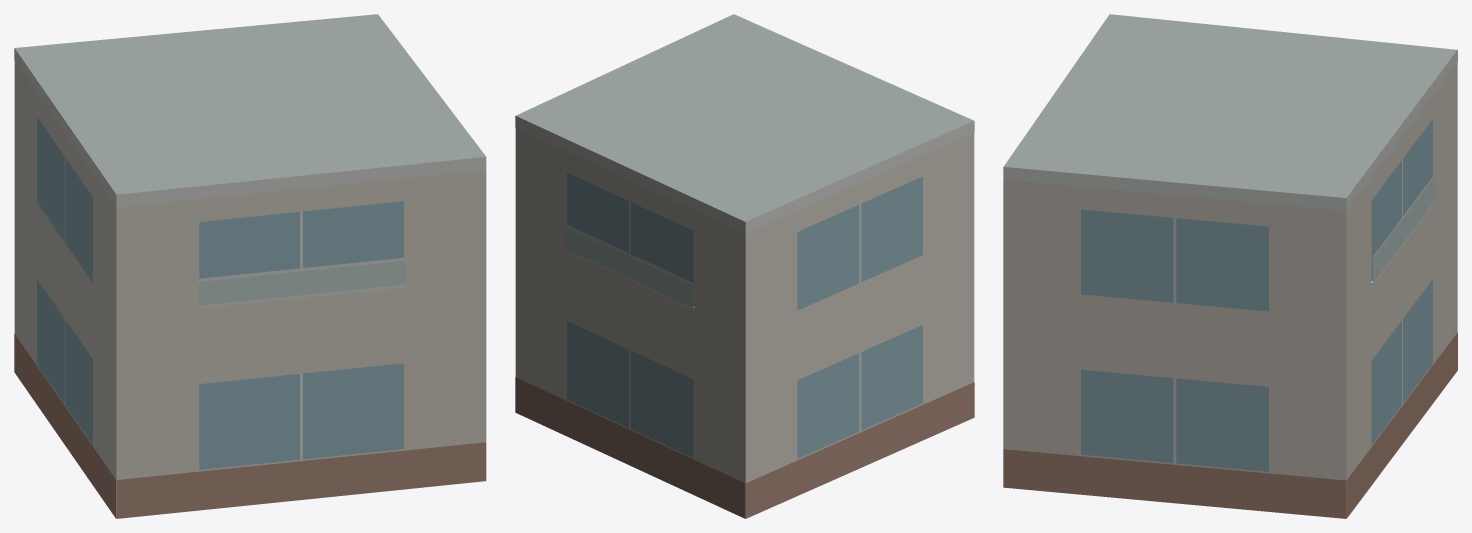
File: survey-upis-32870603.glb
3 views of the same model, side by side, from view 1: azimuth 30°, elevation 25°; view 2: azimuth 150°, elevation 25°; view 3: azimuth 270°, elevation 25° (orthographic). The views are drawn at different scales.
Parts seen in each view (by area): view 1: survey-upis-32870603.tmp; view 2: survey-upis-32870603.tmp; view 3: survey-upis-32870603.tmp.
Boxes of the visible parts, x1,y1,x2,y2 form: survey-upis-32870603.tmp: (14,14,486,518); survey-upis-32870603.tmp: (515,14,974,518); survey-upis-32870603.tmp: (1003,14,1457,518).
Bounding box in the file's own units: 7.52 × 6.1 × 7.84.
